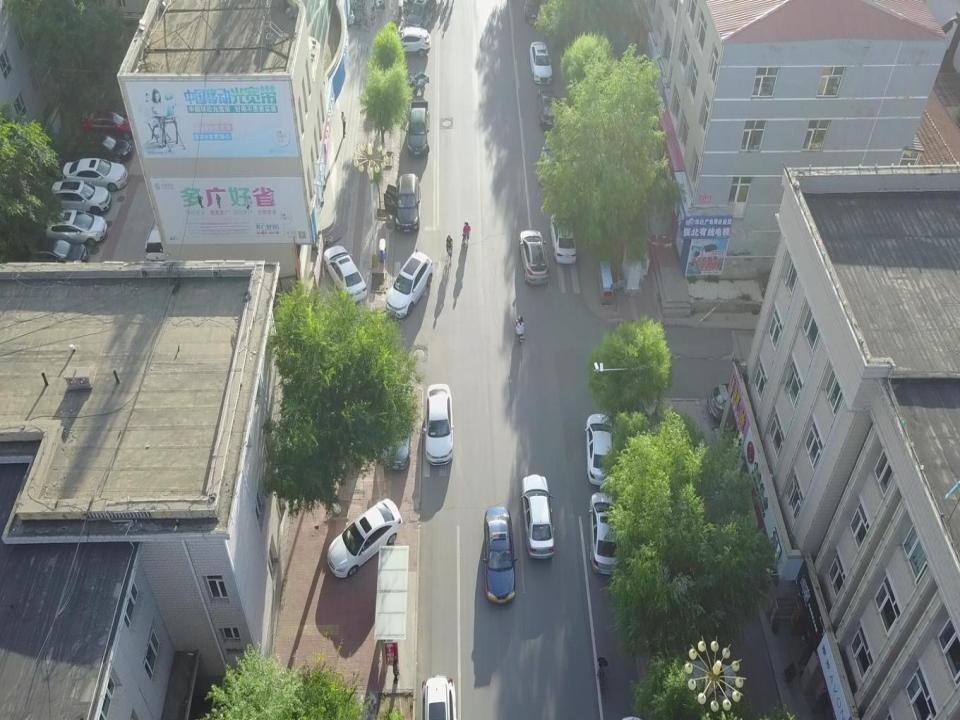car: (327, 498, 404, 578), (655, 655, 738, 708), (482, 507, 517, 604), (385, 250, 433, 319), (707, 381, 780, 424), (588, 491, 624, 576), (521, 473, 555, 559), (380, 385, 412, 471), (37, 209, 109, 247), (422, 384, 455, 466), (323, 245, 367, 305), (62, 157, 129, 195), (584, 413, 618, 487), (383, 173, 420, 233), (51, 180, 111, 216), (24, 237, 88, 270), (72, 133, 132, 164), (82, 109, 138, 141), (419, 674, 457, 720), (519, 230, 549, 286), (549, 211, 577, 264), (538, 144, 568, 189), (392, 26, 431, 57), (529, 41, 553, 85), (537, 89, 563, 129), (524, 0, 543, 26)
truck: (405, 101, 430, 155)
van: (145, 204, 181, 272), (403, 0, 438, 31)
